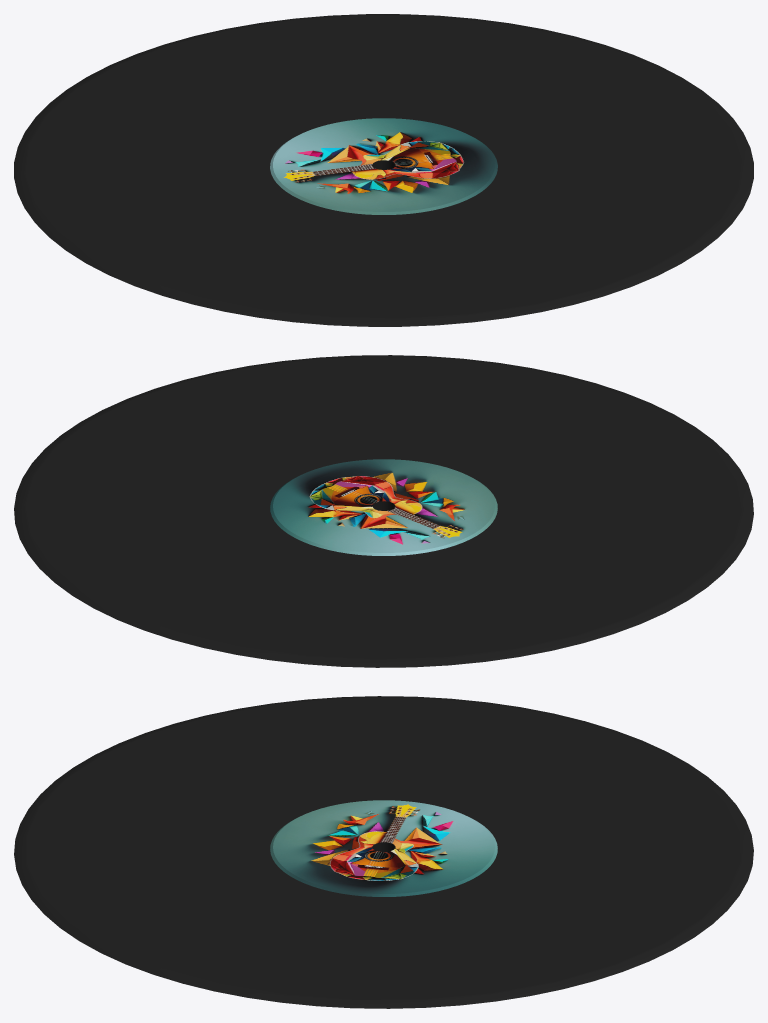
The model's file is vinyl.gltf.
The picture shows the model from 3 angles, top to bottom: view 1: azimuth 30°, elevation 25°; view 2: azimuth 150°, elevation 25°; view 3: azimuth 270°, elevation 25°; orthographic projection.
Parts seen in each view (by area): view 1: vinyl; view 2: vinyl; view 3: vinyl.
Part boxes in pixels (left/top/right/bottom): vinyl: left=14, top=14, right=753, bottom=326; vinyl: left=14, top=355, right=753, bottom=667; vinyl: left=14, top=696, right=753, bottom=1008.
Bounding box in the file's own units: 0.299 × 0.00476 × 0.299.
3 materials, 1 textured.
